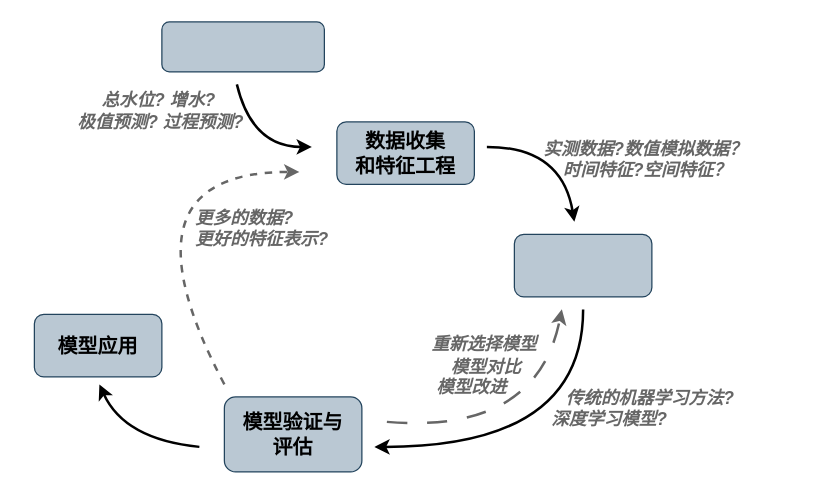
The diagram is 830 pixels wide and 494 high, and some of its shapes have lost their labels. The centre of each missing label's shape, as x and y in pixels:
"模型选择" belongs at pixel 582 265.
"问题定位" belongs at pixel 242 46.
